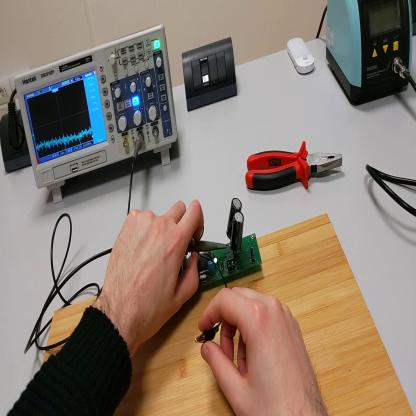hand: (198, 286, 326, 412), (105, 198, 204, 344)
high voltage board: (180, 199, 263, 285)
oscilloscope: (15, 16, 179, 208)
oscilloscope probe tip: (187, 238, 228, 254)
pliers: (241, 147, 344, 192)
socket: (2, 110, 33, 175)
welder station: (324, 3, 414, 104)
working area: (46, 210, 414, 414)
